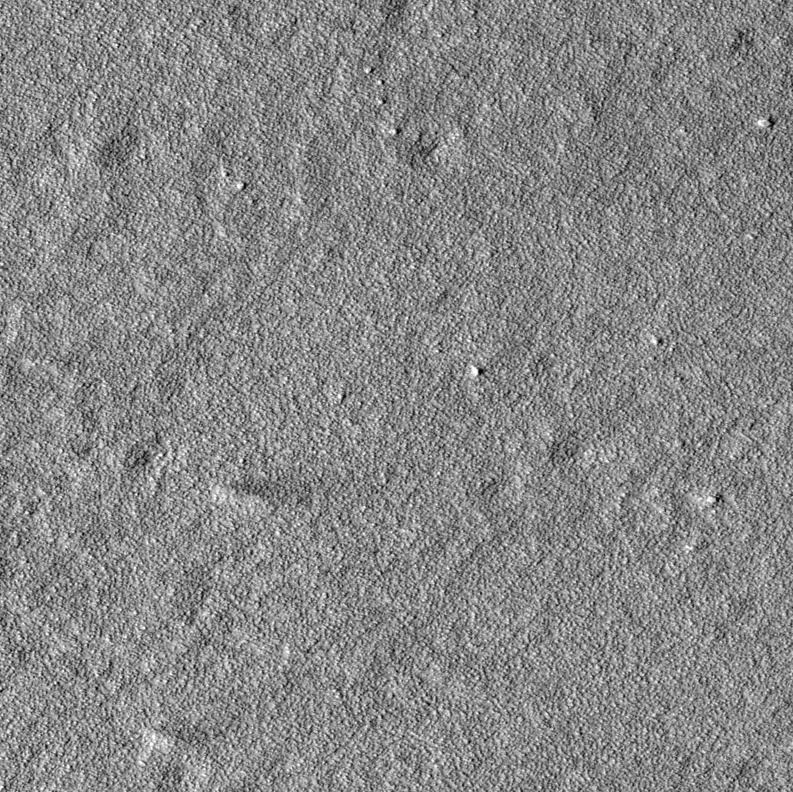dust_devil: (207, 476, 313, 515), (138, 720, 211, 761)
